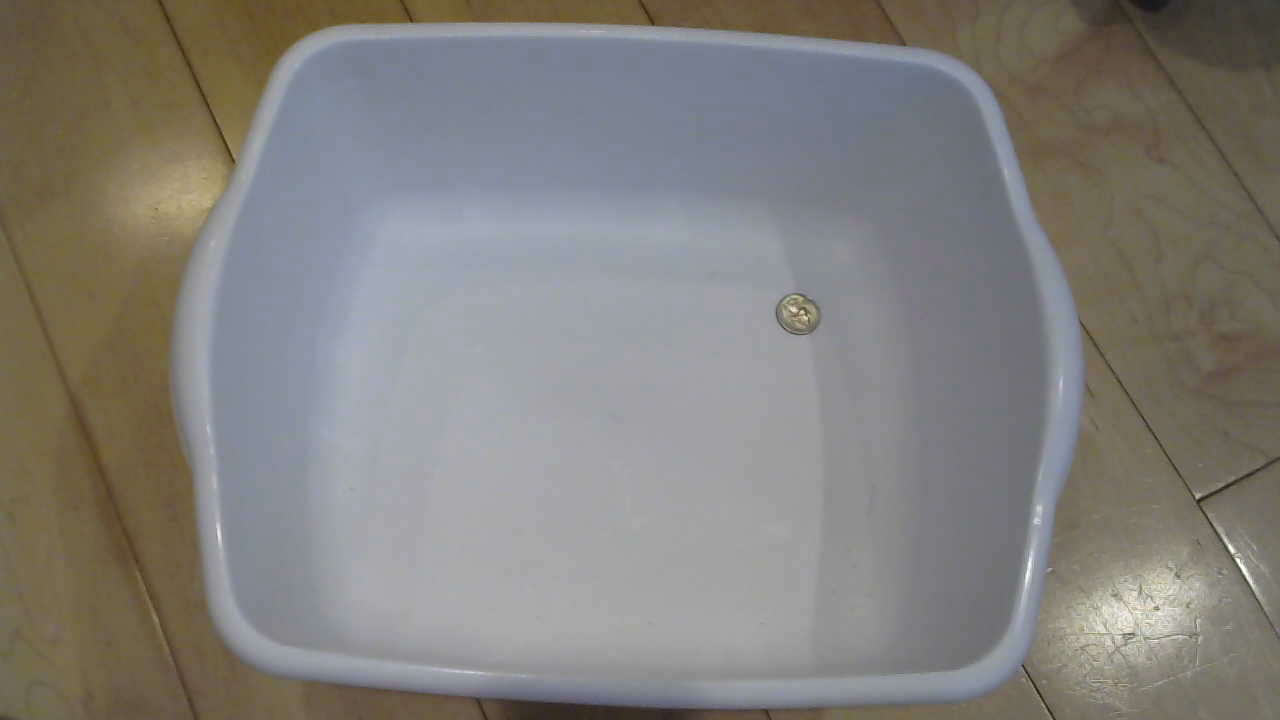coin: (771, 288, 835, 347)
